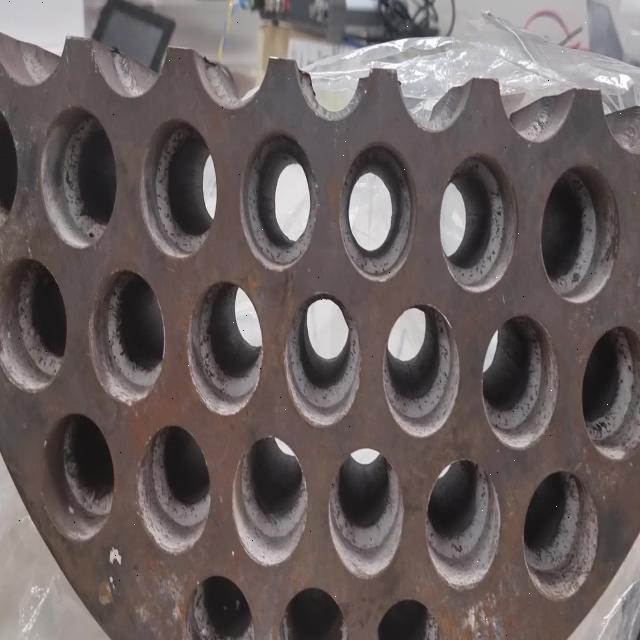Hole: (38, 104, 116, 250), (438, 152, 518, 294), (138, 118, 217, 259), (240, 129, 318, 271), (540, 165, 620, 303), (88, 266, 165, 406), (382, 302, 460, 439), (186, 279, 264, 416), (339, 140, 414, 282), (231, 433, 309, 568), (327, 446, 405, 579), (425, 456, 501, 592), (482, 313, 558, 449), (522, 468, 599, 602), (284, 294, 361, 426), (136, 423, 211, 555), (44, 411, 115, 542), (1, 256, 68, 394), (582, 324, 640, 462), (184, 572, 256, 640), (278, 584, 348, 640)
